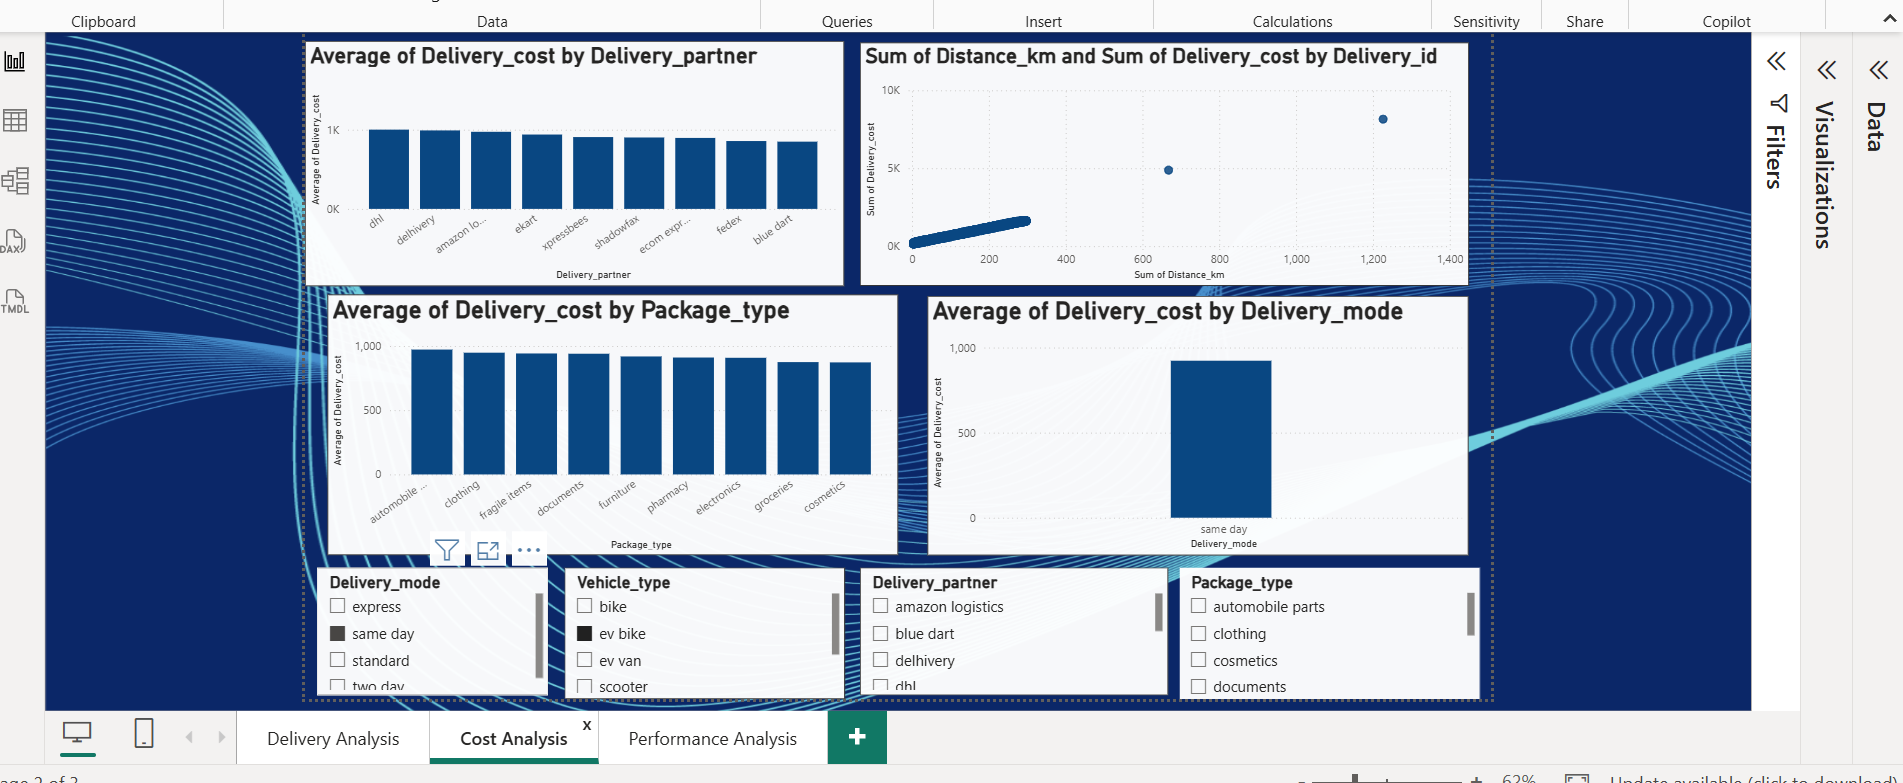

What the dashboard file says about the page in this screenshot:
{"tool":"powerbi","page":{"name":"Cost Analysis","canvas":[1280,720],"ordinal":1},"visuals":[{"type":"columnChart","fields":{"Y":["Avg(Delivery_Logistics.Delivery_cost)"],"Category":["Delivery_Logistics.Delivery_partner"]},"box":[0,9.4,582.1,264.6],"z":0},{"type":"clusteredColumnChart","fields":{"Y":["Avg(Delivery_Logistics.Delivery_cost)"],"Category":["Delivery_Logistics.Delivery_mode"]},"box":[672.8,285.4,583.9,279.7],"z":1000},{"type":"scatterChart","fields":{"Y":["Sum(Delivery_Logistics.Delivery_cost)"],"X":["Sum(Delivery_Logistics.Distance_km)"],"Category":["Delivery_Logistics.Delivery_id"]},"box":[599.1,11.3,657.6,262.7],"z":2000},{"type":"clusteredColumnChart","fields":{"Category":["Delivery_Logistics.Package_type"],"Y":["Avg(Delivery_Logistics.Delivery_cost)"]},"box":[24.6,283.5,616.1,281.6],"z":3000},{"type":"slicer","fields":{"Values":["Delivery_Logistics.Delivery_partner"]},"box":[599.1,578.3,332.6,138],"z":4000},{"type":"slicer","fields":{"Values":["Delivery_Logistics.Delivery_mode"]},"box":[13.2,578.3,249.5,138],"z":5000},{"type":"slicer","fields":{"Values":["Delivery_Logistics.Vehicle_type"]},"box":[279.7,578.3,302.4,141.7],"z":6000},{"type":"slicer","fields":{"Values":["Delivery_Logistics.Package_type"]},"box":[944,578.1,323.8,142.5],"z":6001}]}

Visuals, with their boxes on the page's 1280x720 design canvas (x1, y1, x2, y2). These are canvas units, not pixel positions in the 1903x783 screenshot, which may show the page scaled, cropped or inside an application window:
columnChart - Avg(Delivery_Logistics.Delivery_cost) x Delivery_Logistics.Delivery_partner: (0, 9, 582, 274)
clusteredColumnChart - Avg(Delivery_Logistics.Delivery_cost) x Delivery_Logistics.Delivery_mode: (673, 285, 1257, 565)
scatterChart - Sum(Delivery_Logistics.Delivery_cost) x Sum(Delivery_Logistics.Distance_km): (599, 11, 1257, 274)
clusteredColumnChart - Delivery_Logistics.Package_type x Avg(Delivery_Logistics.Delivery_cost): (25, 284, 641, 565)
slicer - Delivery_Logistics.Delivery_partner: (599, 578, 932, 716)
slicer - Delivery_Logistics.Delivery_mode: (13, 578, 263, 716)
slicer - Delivery_Logistics.Vehicle_type: (280, 578, 582, 720)
slicer - Delivery_Logistics.Package_type: (944, 578, 1268, 721)
